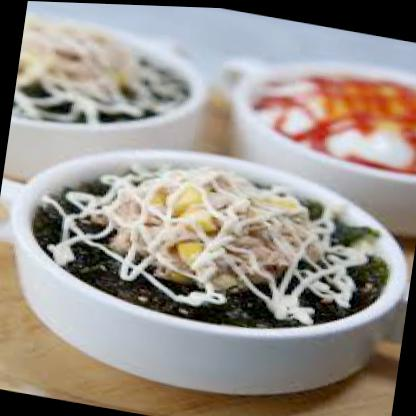cup rice: (21, 135, 398, 360), (11, 8, 216, 148), (240, 33, 415, 185)
